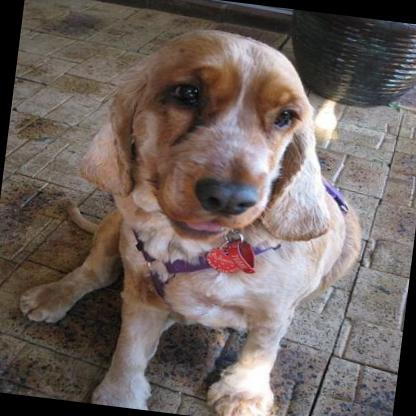cocker_spaniel: (4, 5, 389, 416)
